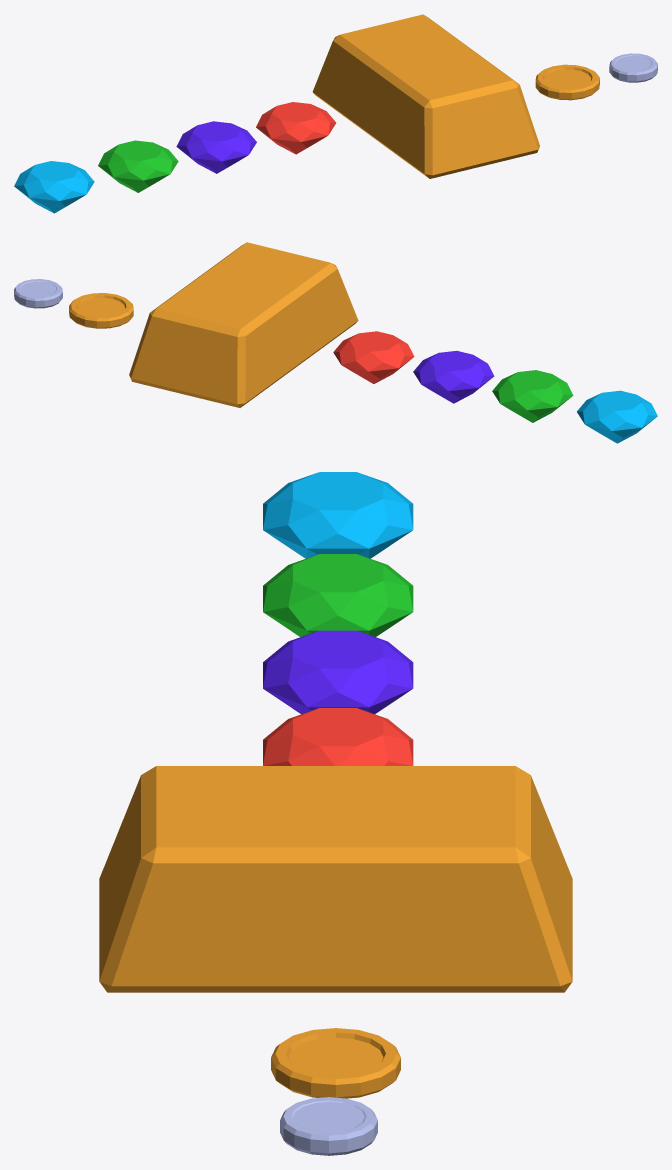
Rendered from coins-gold-gems.fbx.
3 views of the same model, one above another, from view 1: azimuth 30°, elevation 25°; view 2: azimuth 150°, elevation 25°; view 3: azimuth 270°, elevation 25° (orthographic). The views are drawn at different scales.
Visible parts, largest first — view 1: gold, Gem, Gem.002, Gem.001, Gem.003, coin, coin.001; view 2: gold, Gem.002, Gem, Gem.001, Gem.003, coin, coin.001; view 3: gold, Gem.003, Gem.001, Gem.002, coin, Gem, coin.001.
Part boxes in pixels (left/top/right/bottom): gold: left=312, top=14, right=539, bottom=178; Gem: left=256, top=102, right=336, bottom=154; Gem.002: left=98, top=140, right=178, bottom=192; Gem.001: left=176, top=121, right=256, bottom=173; Gem.003: left=14, top=161, right=94, bottom=213; coin: left=535, top=64, right=599, bottom=100; coin.001: left=609, top=53, right=657, bottom=82; gold: left=129, top=242, right=358, bottom=407; Gem.002: left=492, top=370, right=573, bottom=422; Gem: left=333, top=331, right=414, bottom=383; Gem.001: left=413, top=350, right=494, bottom=403; Gem.003: left=577, top=390, right=657, bottom=443; coin: left=69, top=293, right=133, bottom=328; coin.001: left=14, top=279, right=62, bottom=308; gold: left=99, top=766, right=572, bottom=992; Gem.003: left=263, top=472, right=413, bottom=558; Gem.001: left=263, top=630, right=413, bottom=714; Gem.002: left=263, top=554, right=413, bottom=636; coin: left=271, top=1028, right=400, bottom=1098; Gem: left=263, top=708, right=413, bottom=765; coin.001: left=280, top=1097, right=377, bottom=1155.
Bounding box in the file's own units: 126 × 12.77 × 41.06.
